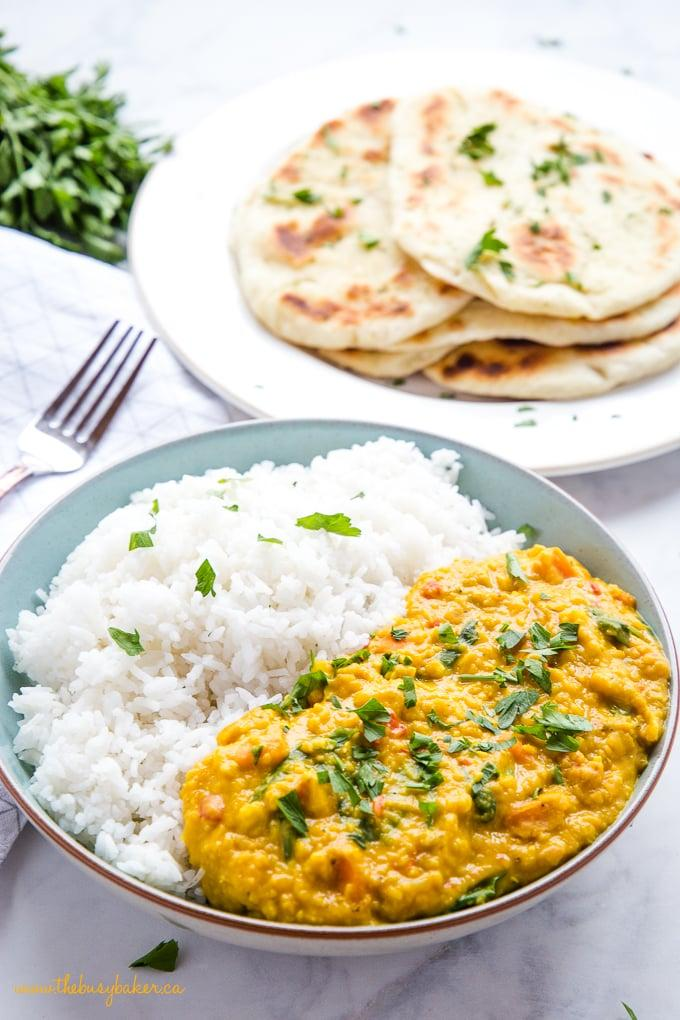daal: (420, 564, 661, 871)
rice: (45, 439, 331, 669)
